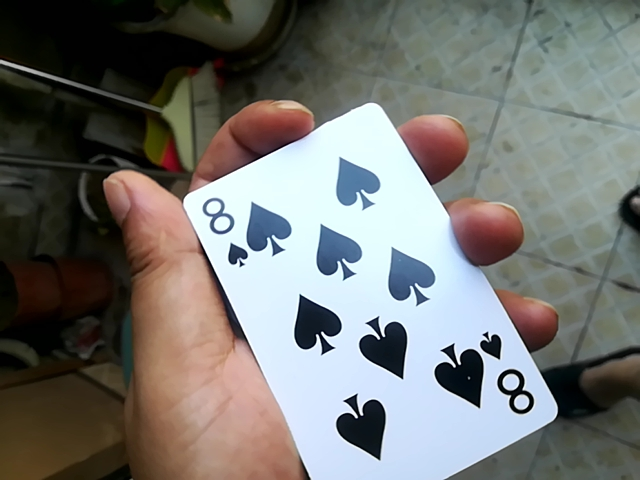ht 8: (169, 96, 539, 480)
